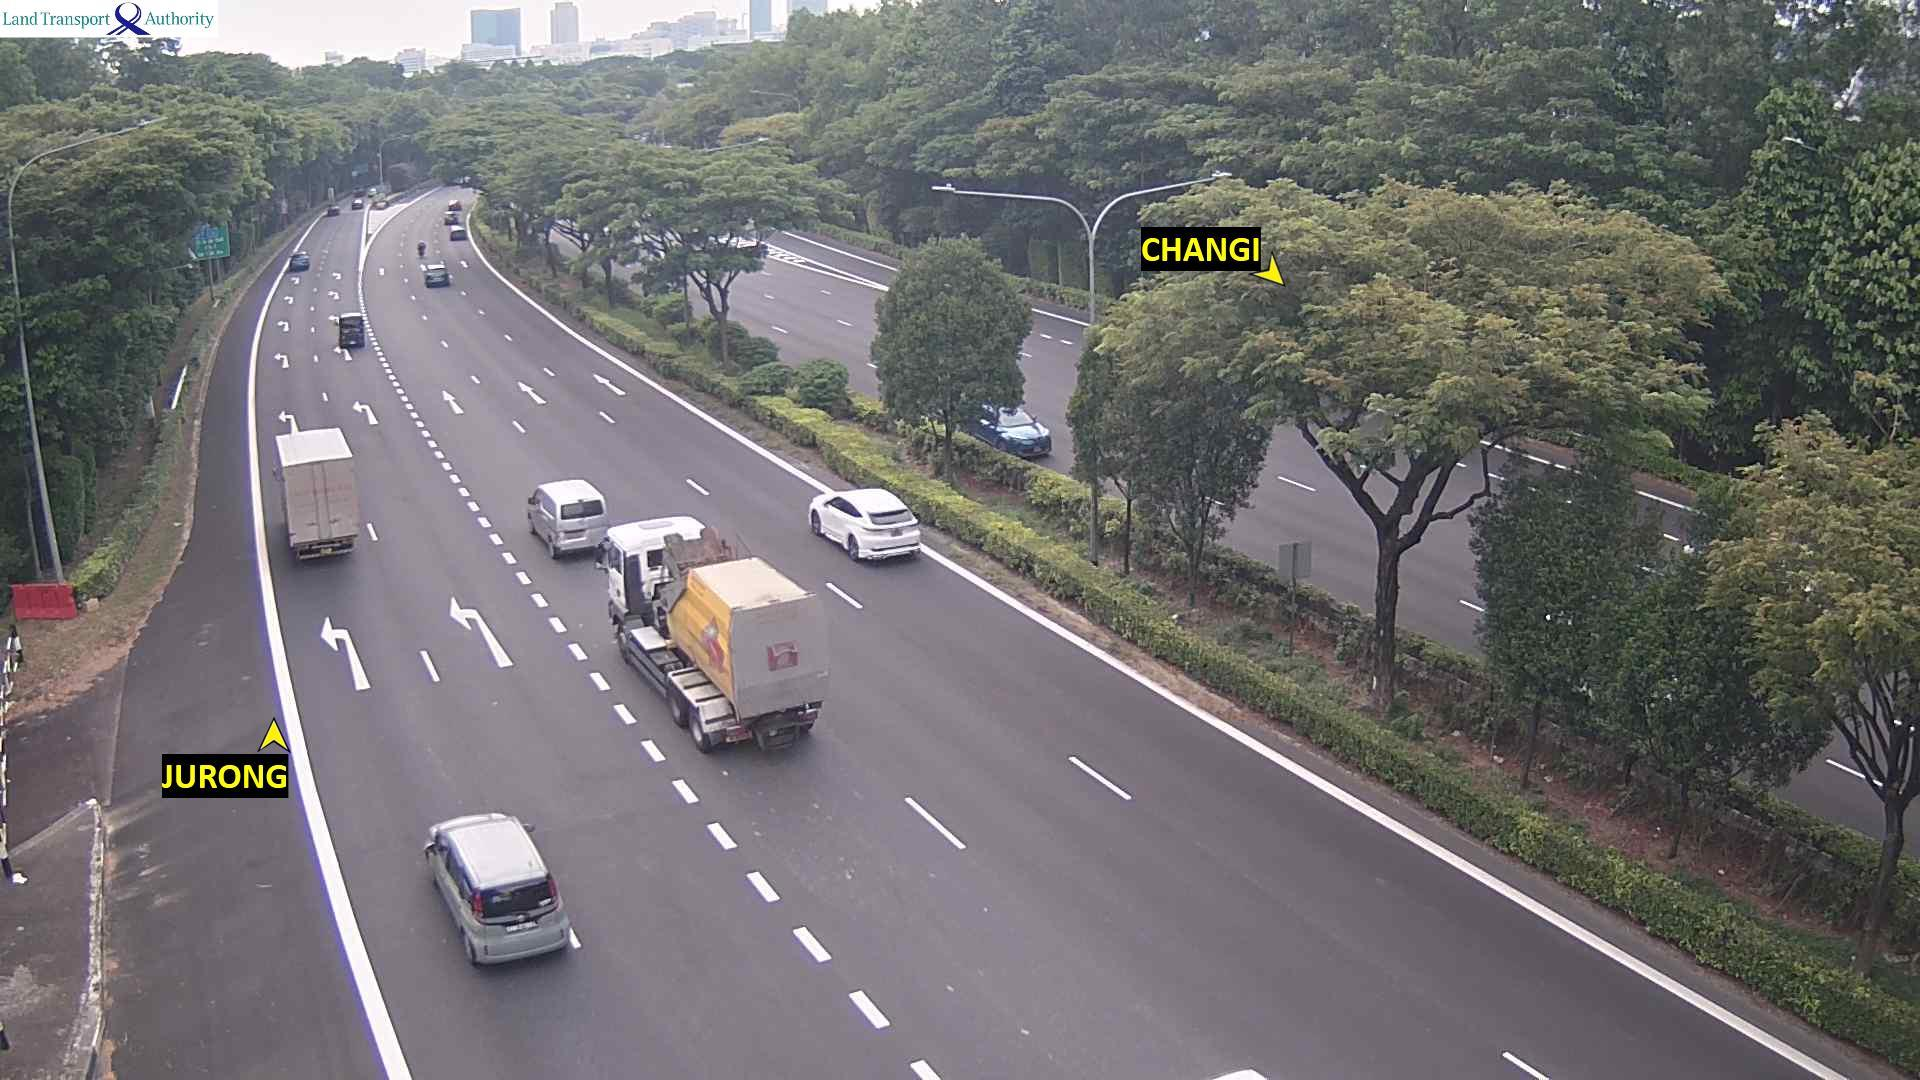incoming: (980, 392, 1064, 464)
